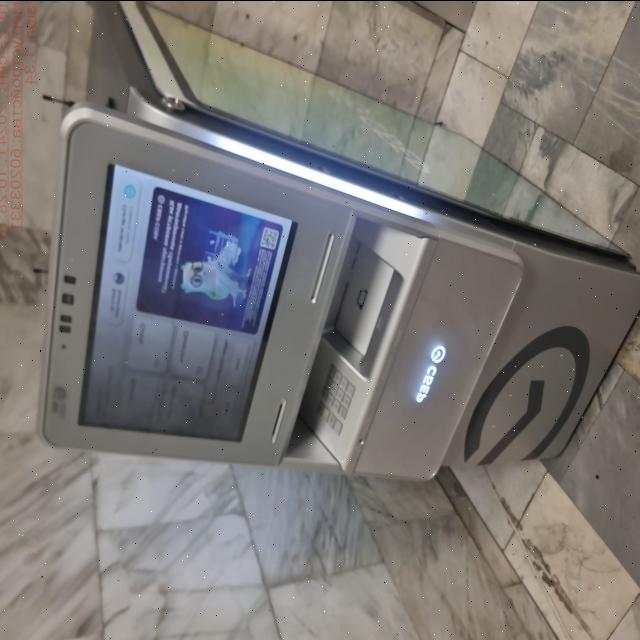bank: (39, 0, 640, 483)
